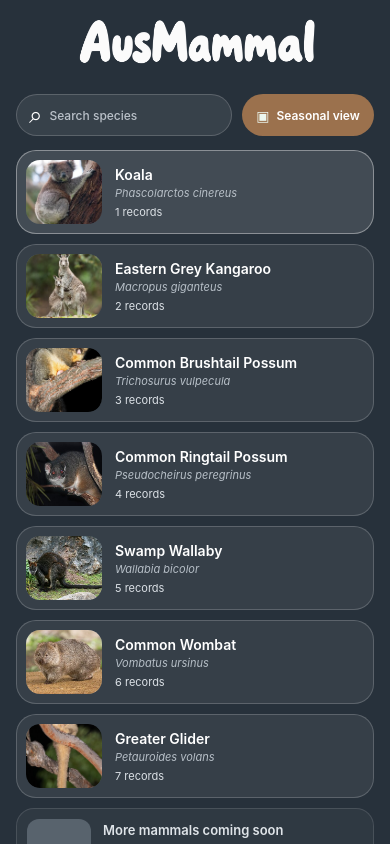
Test case: ExplorerWorkspace species flow › keeps selector images mounted while the map is open
The width and height of the screenshot is (390, 844).
Click the button "Koala Phascolarctos cinereus 1 records": (195, 192) [16,150,374,234]
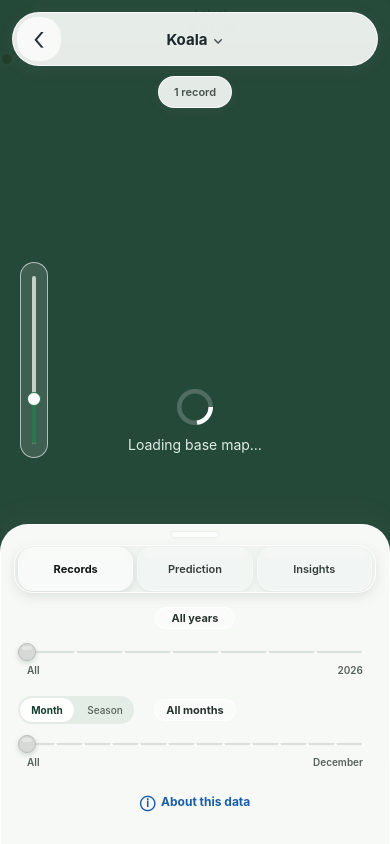
Expected: the picture named "AusMammal" is shown, [70,16,320,70]
Expected: the element named "Occurrence map for Koala" is shown
Click the button named "Back to species selection": (39, 39) [17,17,61,61]
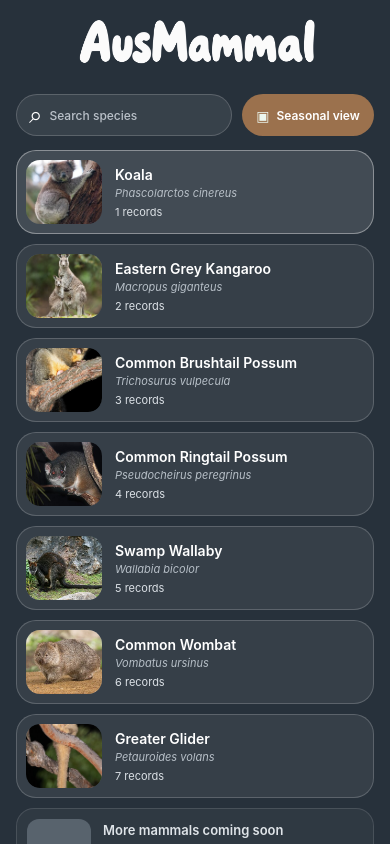
Expected: the picture named "AusMammal" is shown, [70,16,320,70]
Expected: the element named "Koala photo" is shown, [26,160,102,224]
